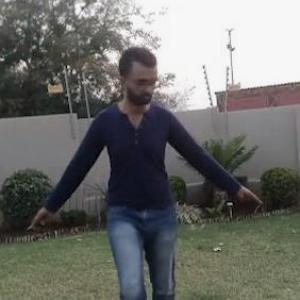land: (21, 62, 251, 299)
